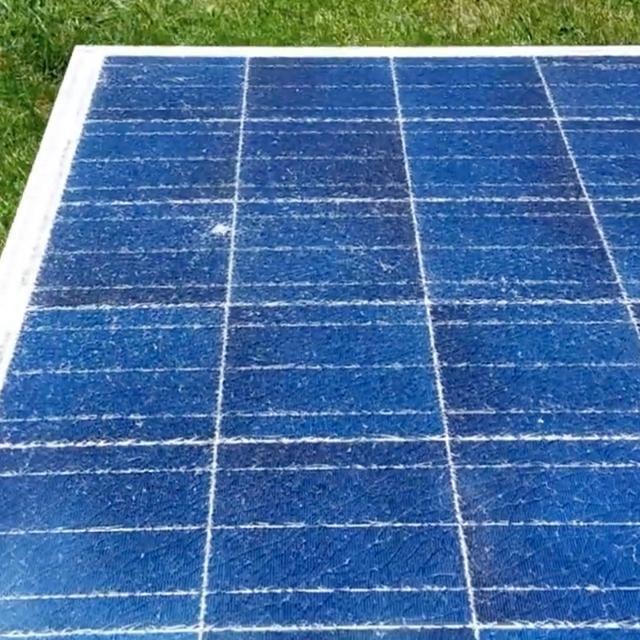Anomaly Solar Panel: (0, 42, 639, 639)
Structural Damage: (183, 204, 257, 256)
